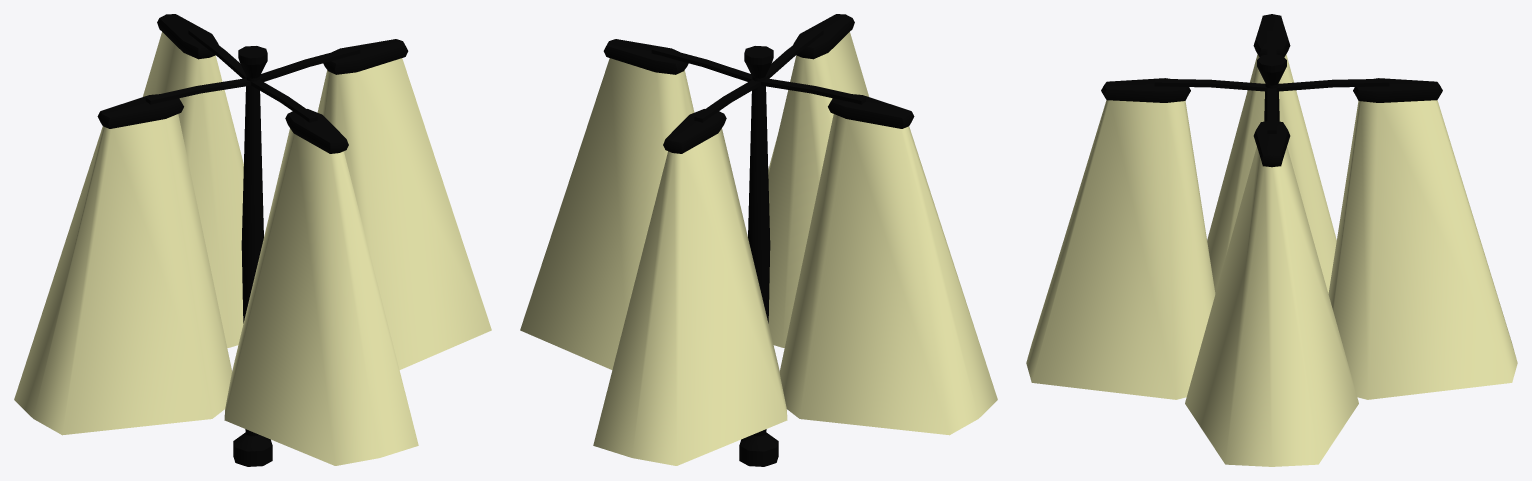
File: PostLights_Var02.fbx
3 renders of one model, left to right at view 1: azimuth 30°, elevation 25°; view 2: azimuth 150°, elevation 25°; view 3: azimuth 270°, elevation 25°, orthographic. The views are drawn at different scales.
Parts seen in each view (by area): view 1: Lamp_Glow, PostLights; view 2: Lamp_Glow, PostLights; view 3: Lamp_Glow, PostLights.
Part boxes in pixels (left/top/right/bottom): Lamp_Glow: left=14, top=32, right=491, bottom=465; PostLights: left=97, top=14, right=408, bottom=466; Lamp_Glow: left=520, top=32, right=997, bottom=465; PostLights: left=603, top=14, right=914, bottom=466; Lamp_Glow: left=1026, top=54, right=1517, bottom=466; PostLights: left=1101, top=14, right=1442, bottom=167.
Bounding box in the file's own units: 52.22 × 46.15 × 52.22.
